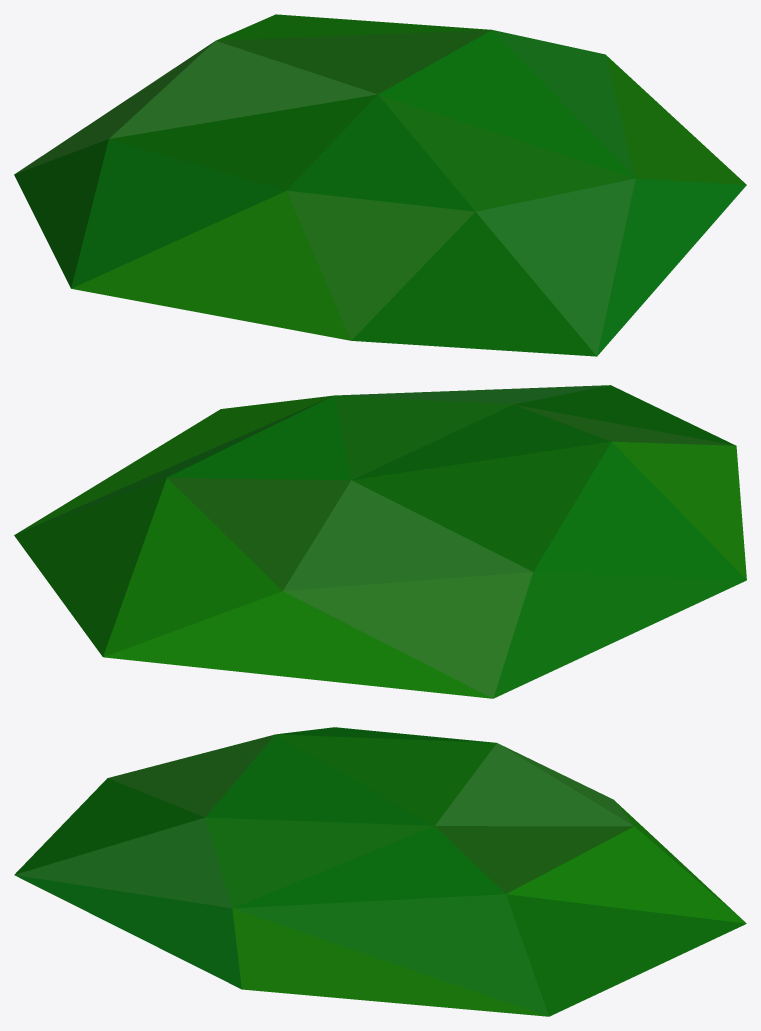
Rendered from GreenPatch02.glb.
The picture shows the model from 3 angles, top to bottom: view 1: azimuth 30°, elevation 25°; view 2: azimuth 150°, elevation 25°; view 3: azimuth 270°, elevation 25°; orthographic projection. The views are drawn at different scales.
Parts seen in each view (by area): view 1: GreenPatch02; view 2: GreenPatch02; view 3: GreenPatch02.
Part boxes in pixels (left/top/right/bottom): GreenPatch02: left=14, top=14, right=746, bottom=356; GreenPatch02: left=14, top=385, right=746, bottom=698; GreenPatch02: left=14, top=727, right=746, bottom=1016.
Bounding box in the file's own units: 0.616 × 0.1002 × 0.6997.
